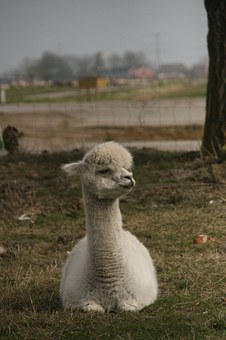alpaca: (57, 139, 157, 314)
